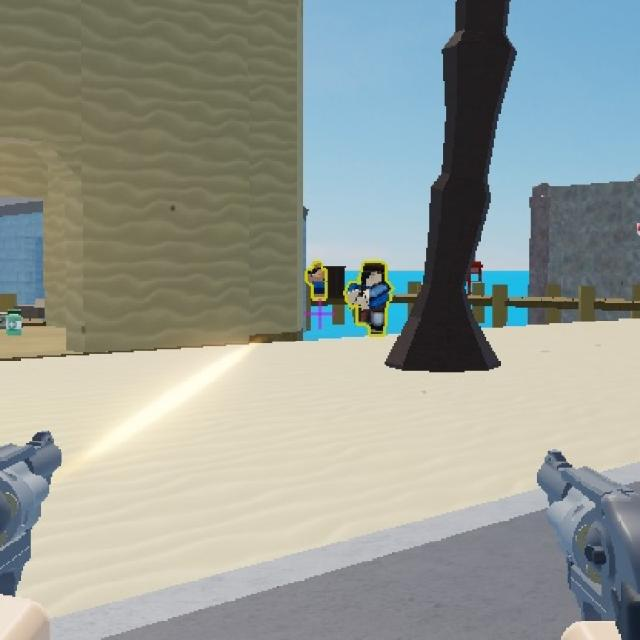player: (341, 260, 402, 338), (307, 254, 333, 310)
